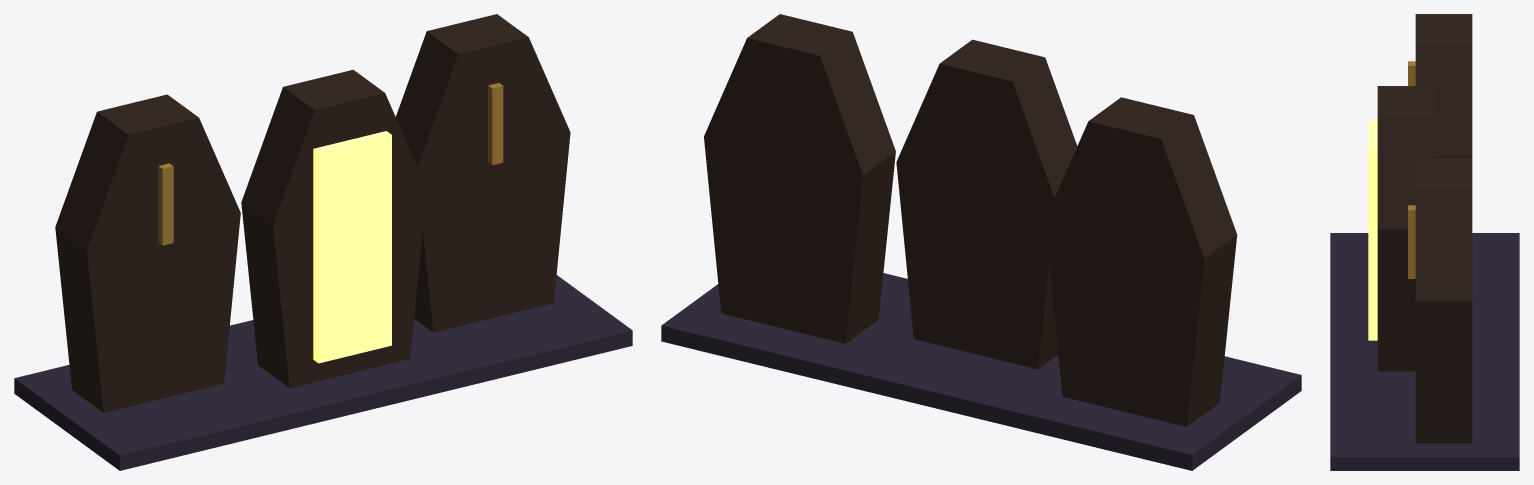
The model's file is coffin-row.glb.
The picture shows the model from 3 angles, left to right: view 1: azimuth 30°, elevation 25°; view 2: azimuth 150°, elevation 25°; view 3: azimuth 270°, elevation 25°; orthographic projection. The views are drawn at different scales.
Visible parts, largest first — view 1: cw_paint, cw_glow; view 2: cw_paint; view 3: cw_paint, cw_glow.
Boxes of the visible parts, x1,y1,x2,y2 form: cw_paint: [14, 14, 632, 470]; cw_glow: [313, 131, 391, 363]; cw_paint: [661, 14, 1301, 470]; cw_paint: [1330, 14, 1519, 470]; cw_glow: [1368, 119, 1377, 340].
Bounding box in the file's own units: 2.8 × 1.5 × 1.
